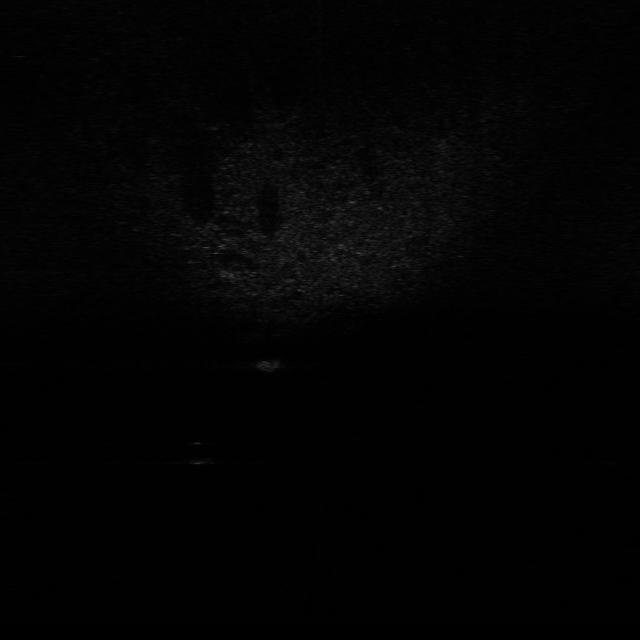ball: (170, 435, 230, 468)
cube: (250, 352, 290, 375)
